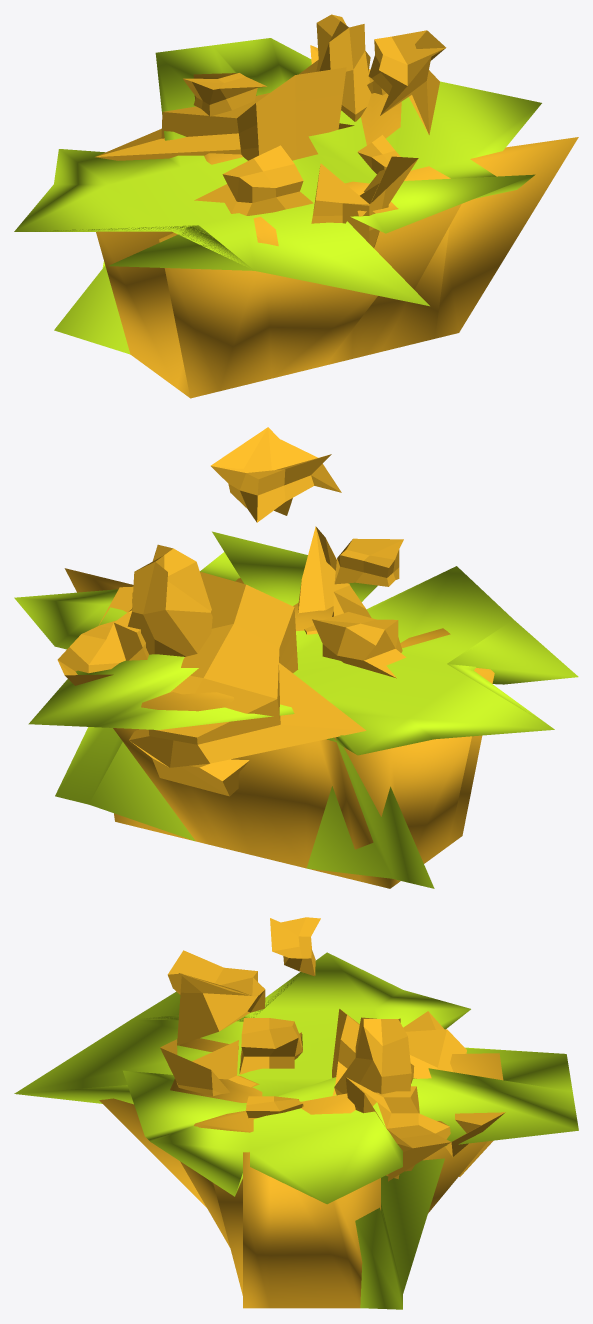
The model's file is UglyMap.glb.
3 views of the same model, one above another, from view 1: azimuth 30°, elevation 25°; view 2: azimuth 150°, elevation 25°; view 3: azimuth 270°, elevation 25° (orthographic). The views are drawn at different scales.
Visible parts, largest first — view 1: Cube.009, Cube, Cube.001, Cube.008, Cube.002, Cube.006, Cube.004, Cube.007, Cube.003; view 2: Cube.009, Cube, Cube.001, Cube.004, Cube.008, Cube.005, Cube.002, Cube.006, Cube.007; view 3: Cube.009, Cube, Cube.008, Cube.005, Cube.004, Cube.001, Cube.002, Cube.006, Cube.007, Cube.003.
Boxes of the visible parts, x1,y1,x2,y2 form: Cube.009: (14, 38, 541, 354); Cube: (96, 73, 578, 398); Cube.001: (95, 67, 354, 160); Cube.008: (368, 30, 446, 134); Cube.002: (194, 145, 313, 215); Cube.006: (311, 156, 418, 247); Cube.004: (298, 14, 371, 121); Cube.007: (183, 73, 266, 116); Cube.003: (357, 135, 400, 173); Cube.009: (14, 531, 578, 888); Cube: (64, 568, 494, 888); Cube.001: (129, 571, 366, 796); Cube.004: (127, 544, 212, 656); Cube.008: (210, 427, 341, 522); Cube.005: (57, 586, 148, 685); Cube.002: (312, 612, 406, 678); Cube.006: (298, 526, 371, 634); Cube.007: (334, 538, 403, 586); Cube.009: (14, 952, 578, 1309); Cube: (99, 1038, 503, 1308); Cube.008: (167, 950, 265, 1045); Cube.005: (345, 1077, 505, 1181); Cube.004: (334, 1017, 414, 1179); Cube.001: (332, 1009, 493, 1176); Cube.002: (239, 1018, 302, 1074); Cube.006: (160, 1039, 259, 1096); Cube.007: (270, 917, 320, 976); Cube.003: (246, 1096, 303, 1119).
Bounding box in the file's own units: 48.06 × 27.87 × 45.52.
